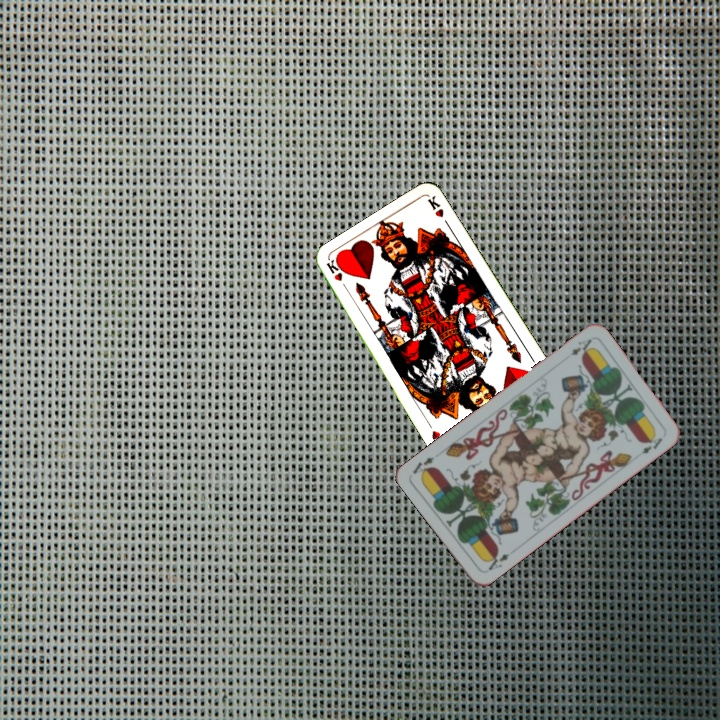EA: (481, 548, 512, 573), (567, 335, 595, 358)
HK: (323, 256, 352, 294)
